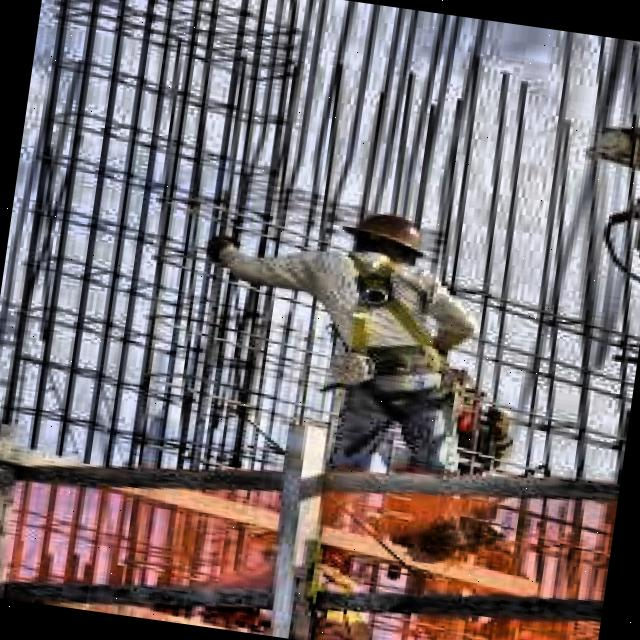helmet: (339, 199, 445, 291)
